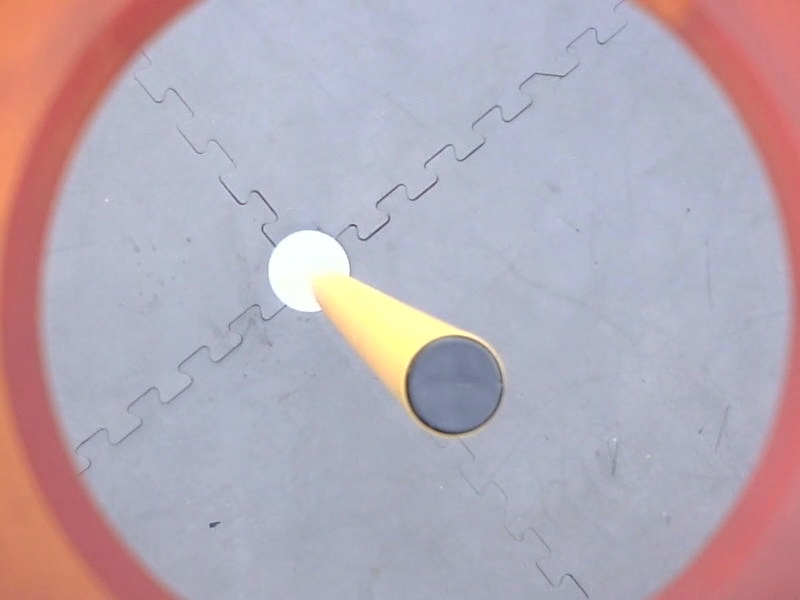tip: (397, 327, 511, 444)
